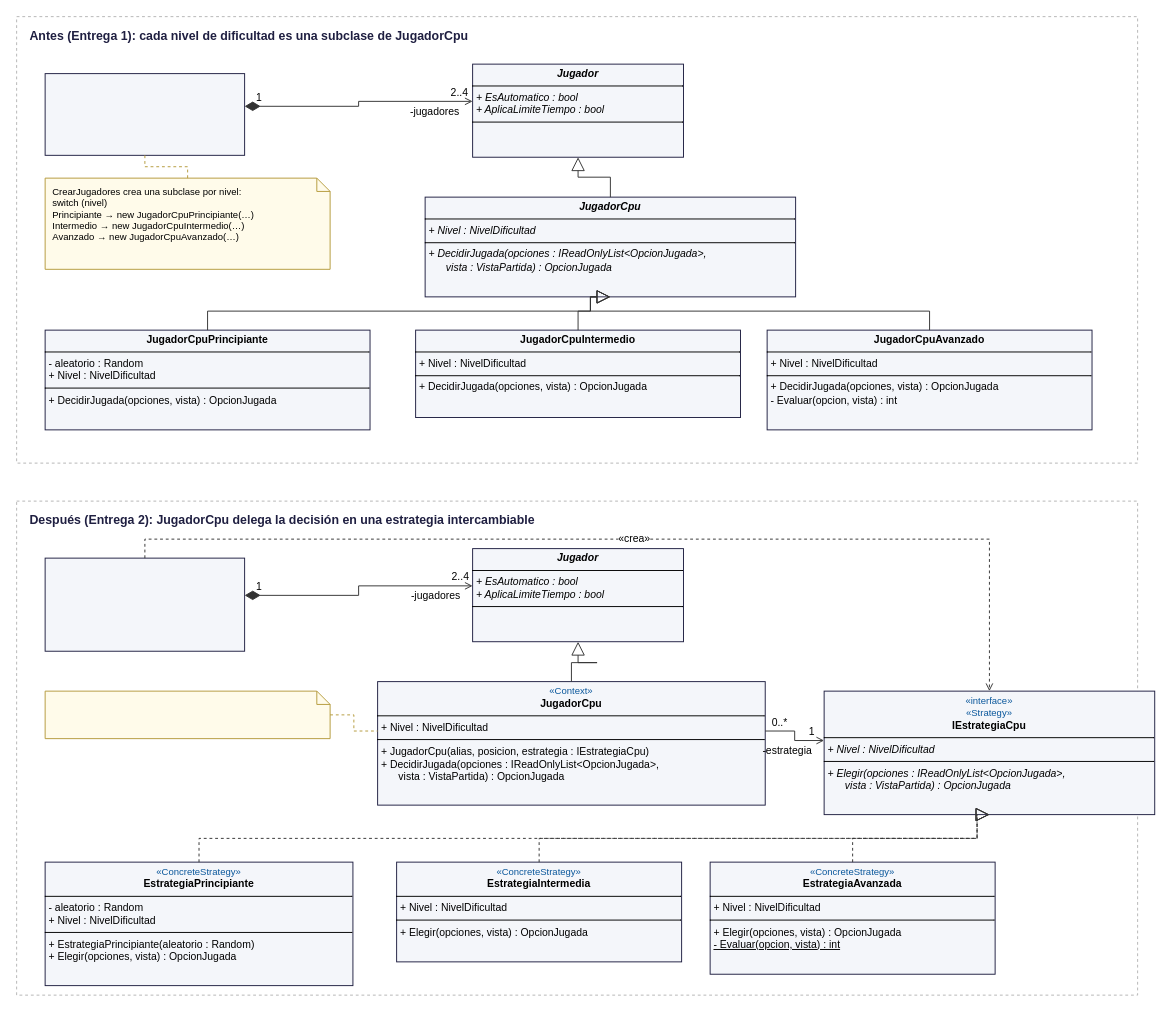
Image size: 1171x1012. Some labels were removed from this diagram. Here are the shapes that lost their labels. From the top down, the centre of each, then its label:
(x=144, y=114): Partida - CrearJugadores() : void
(x=144, y=604): «Creador» Partida - CrearJugadores() : void
(x=187, y=714): Nivel => estrategia.Nivel DecidirJugada(…) => estrategia.Elegir(opciones, vista)
